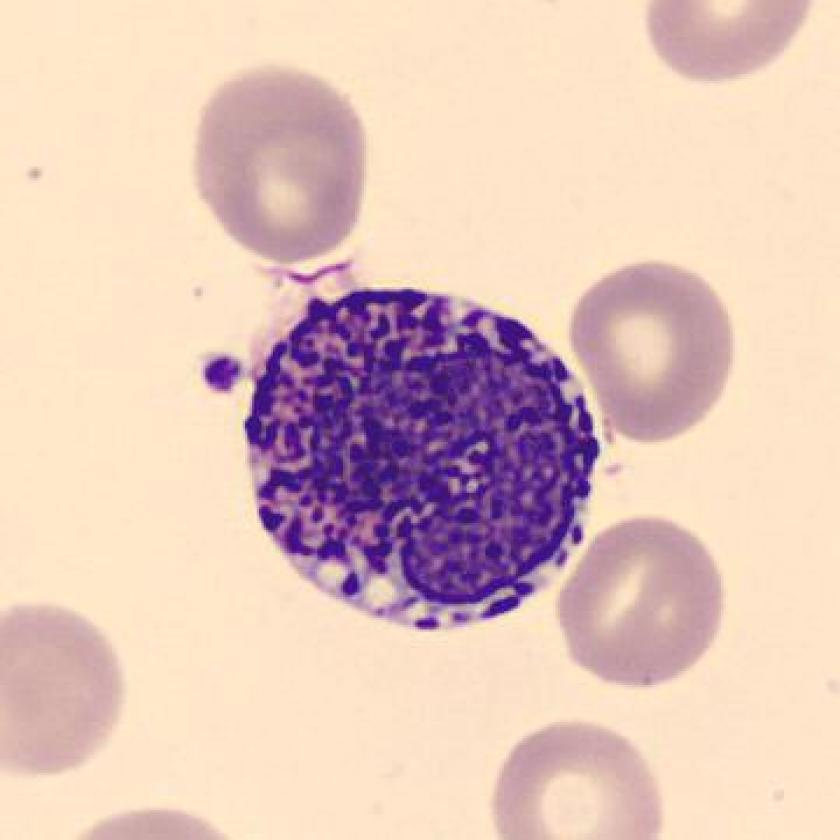basophil: (225, 279, 605, 630)
